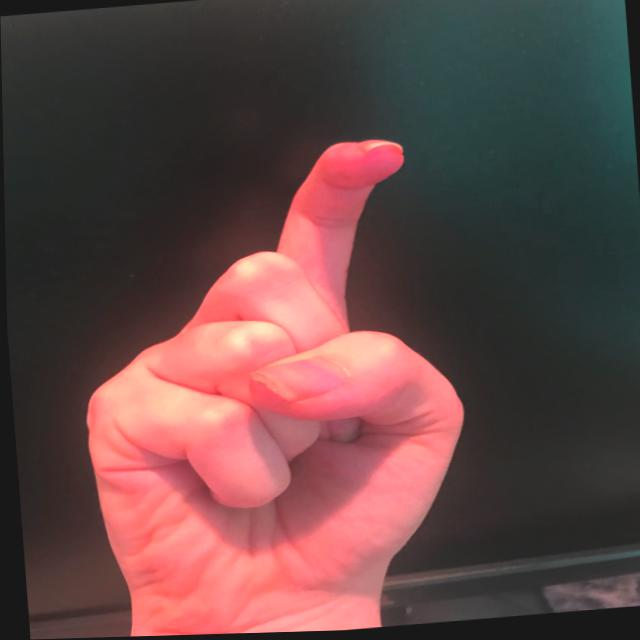X: (56, 132, 482, 637)
